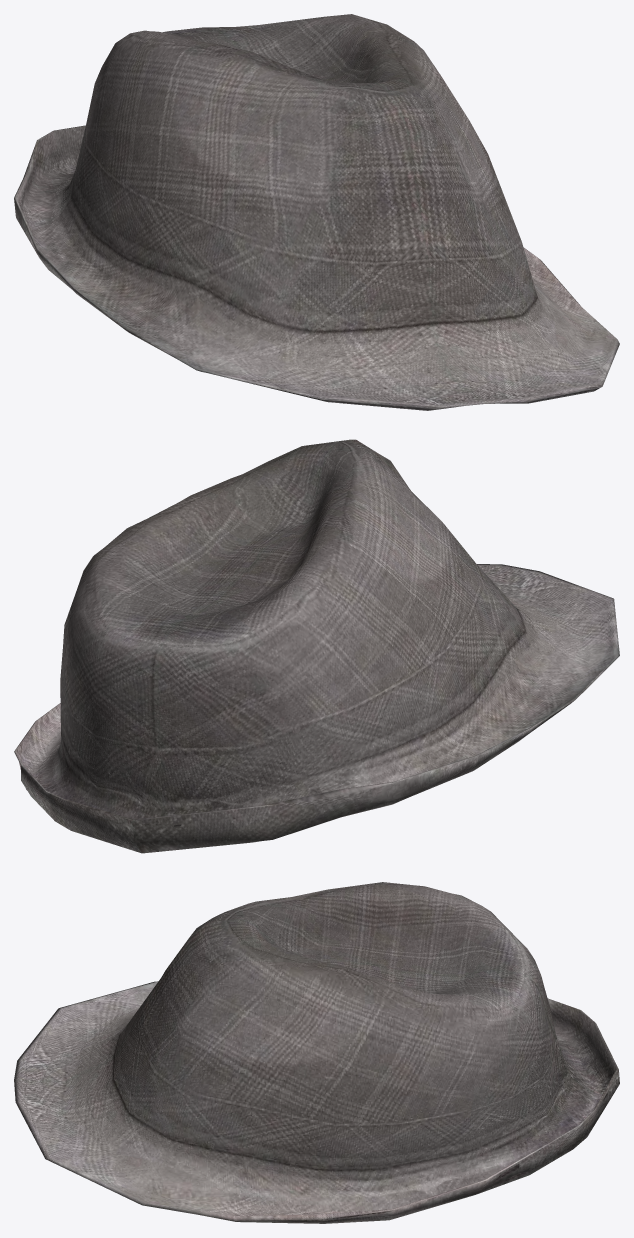
File: fedora-cocked.glb
3 renders of one model, top to bottom at view 1: azimuth 30°, elevation 25°; view 2: azimuth 150°, elevation 25°; view 3: azimuth 270°, elevation 25°, orthographic. The views are drawn at different scales.
Parts seen in each view (by area): view 1: Human.fedora_cocked; view 2: Human.fedora_cocked; view 3: Human.fedora_cocked.
Boxes of the visible parts, x1,y1,x2,y2 form: Human.fedora_cocked: (14,14,619,410); Human.fedora_cocked: (14,439,619,853); Human.fedora_cocked: (14,882,619,1223).
Bounding box in the file's own units: 0.2069 × 0.119 × 0.2862.
Materials: 1 (1 with a texture image).
